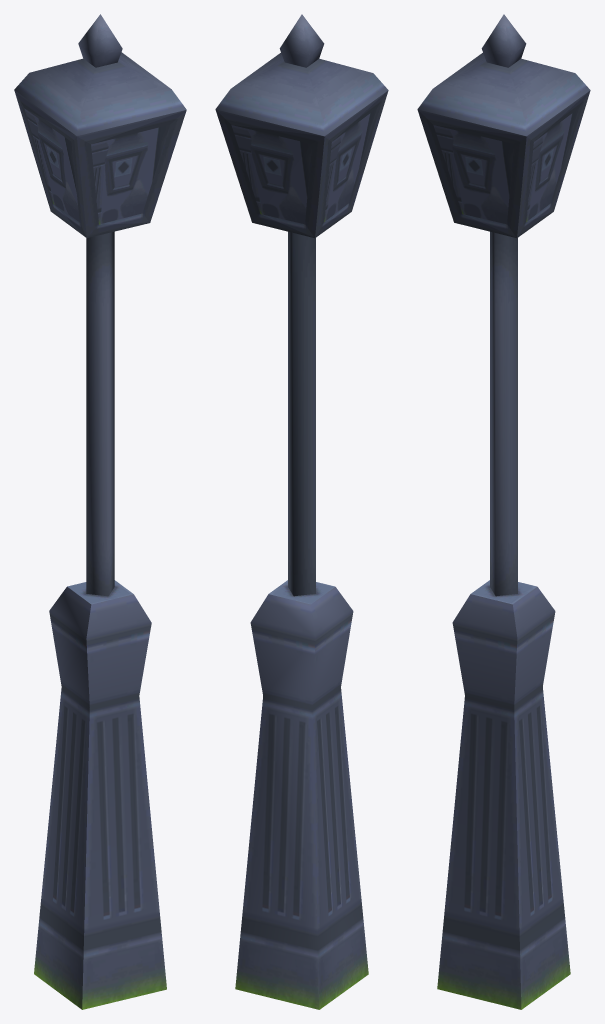
File: 0158_T_ZhenYin_DengZhu01.glb
3 renders of one model, left to right at view 1: azimuth 30°, elevation 25°; view 2: azimuth 150°, elevation 25°; view 3: azimuth 330°, elevation 25°, orthographic.
Bounding box in the file's own units: 0.2624 × 2.2 × 0.2624.
1 material, 1 textured.
